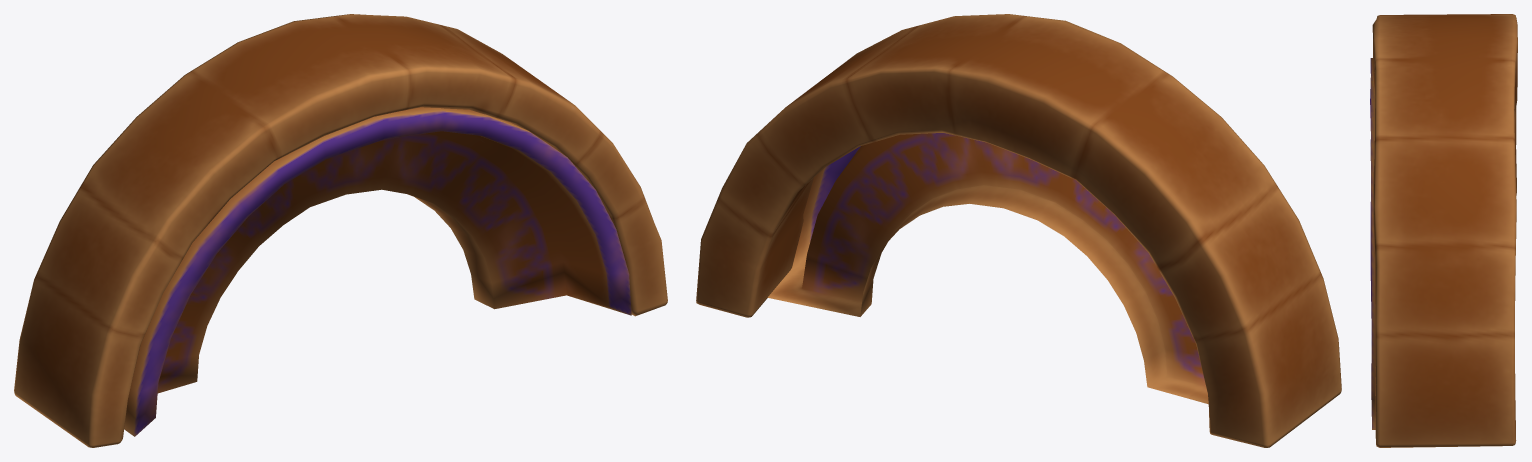
The model's file is achi2.fbx.
3 renders of one model, left to right at view 1: azimuth 30°, elevation 25°; view 2: azimuth 150°, elevation 25°; view 3: azimuth 270°, elevation 25°, orthographic. The views are drawn at different scales.
Visible parts, largest first — view 1: achi2_low, achi3_low; view 2: achi2_low, achi3_low; view 3: achi2_low, achi3_low.
Part boxes in pixels (x1,y1,x2,y2): achi2_low: (14,14,667,447); achi3_low: (124,107,631,436); achi2_low: (696,14,1341,447); achi3_low: (767,133,1208,404); achi2_low: (1372,14,1517,447); achi3_low: (1370,58,1375,429).
Size of the model in its own units: 2102 by 507 by 1069.
